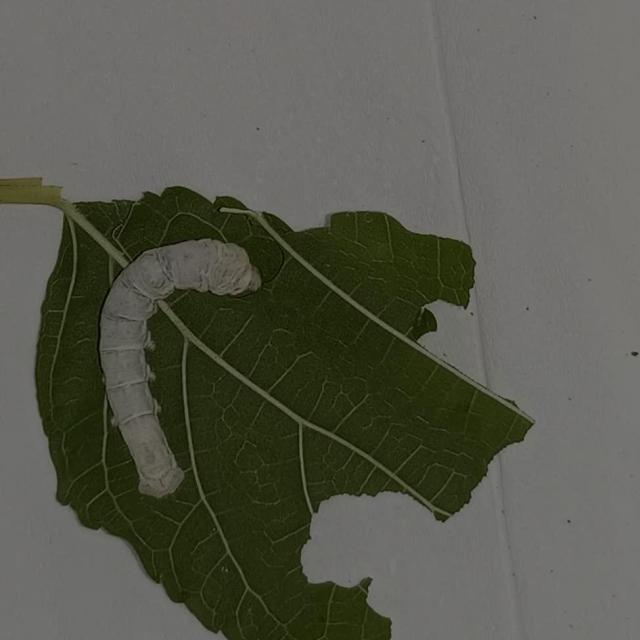Healthy: (91, 216, 271, 505)
